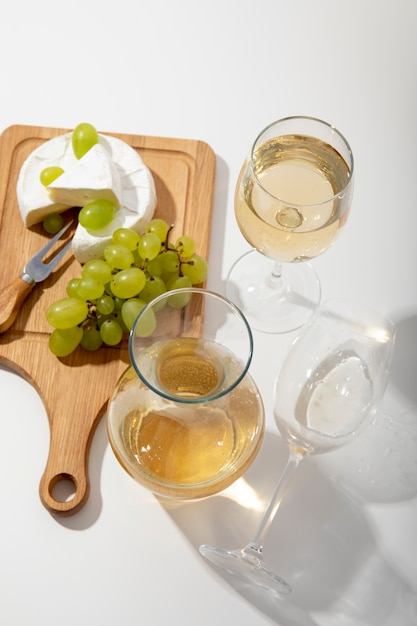alcohol: (104, 285, 271, 505), (228, 110, 356, 336)
